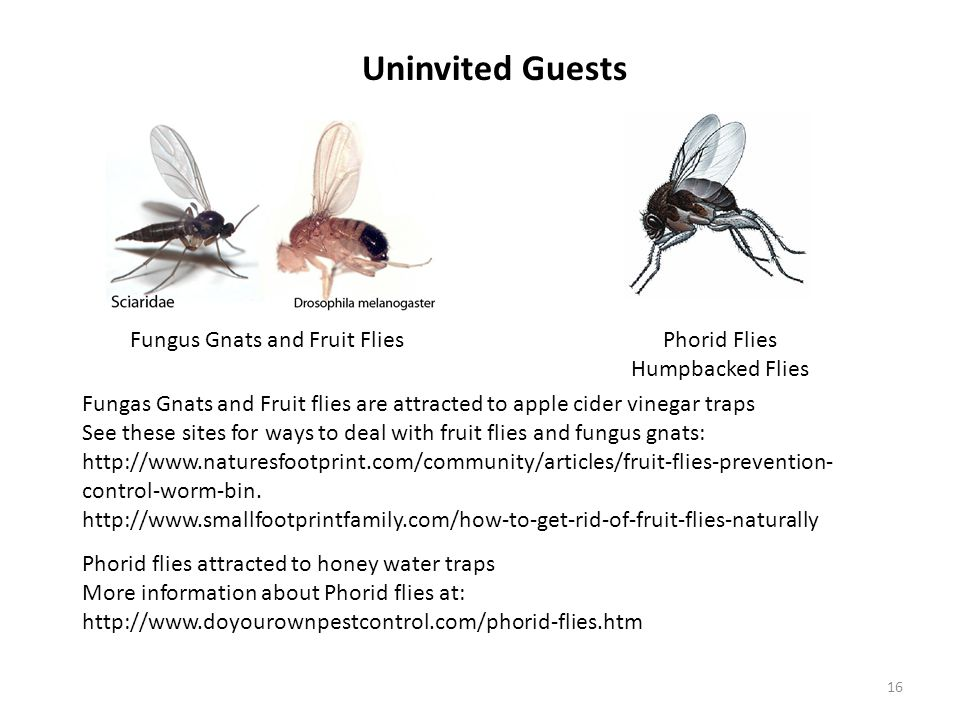phorid fly: (595, 108, 837, 317)
